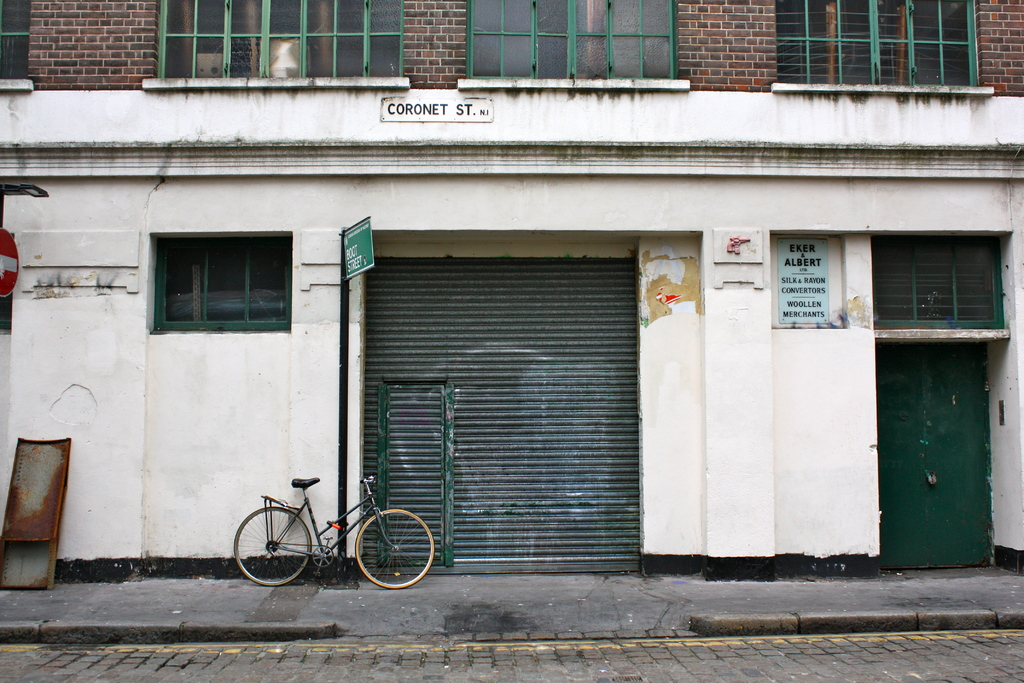door: (927, 351, 985, 553), (878, 344, 931, 565), (387, 386, 449, 559)
